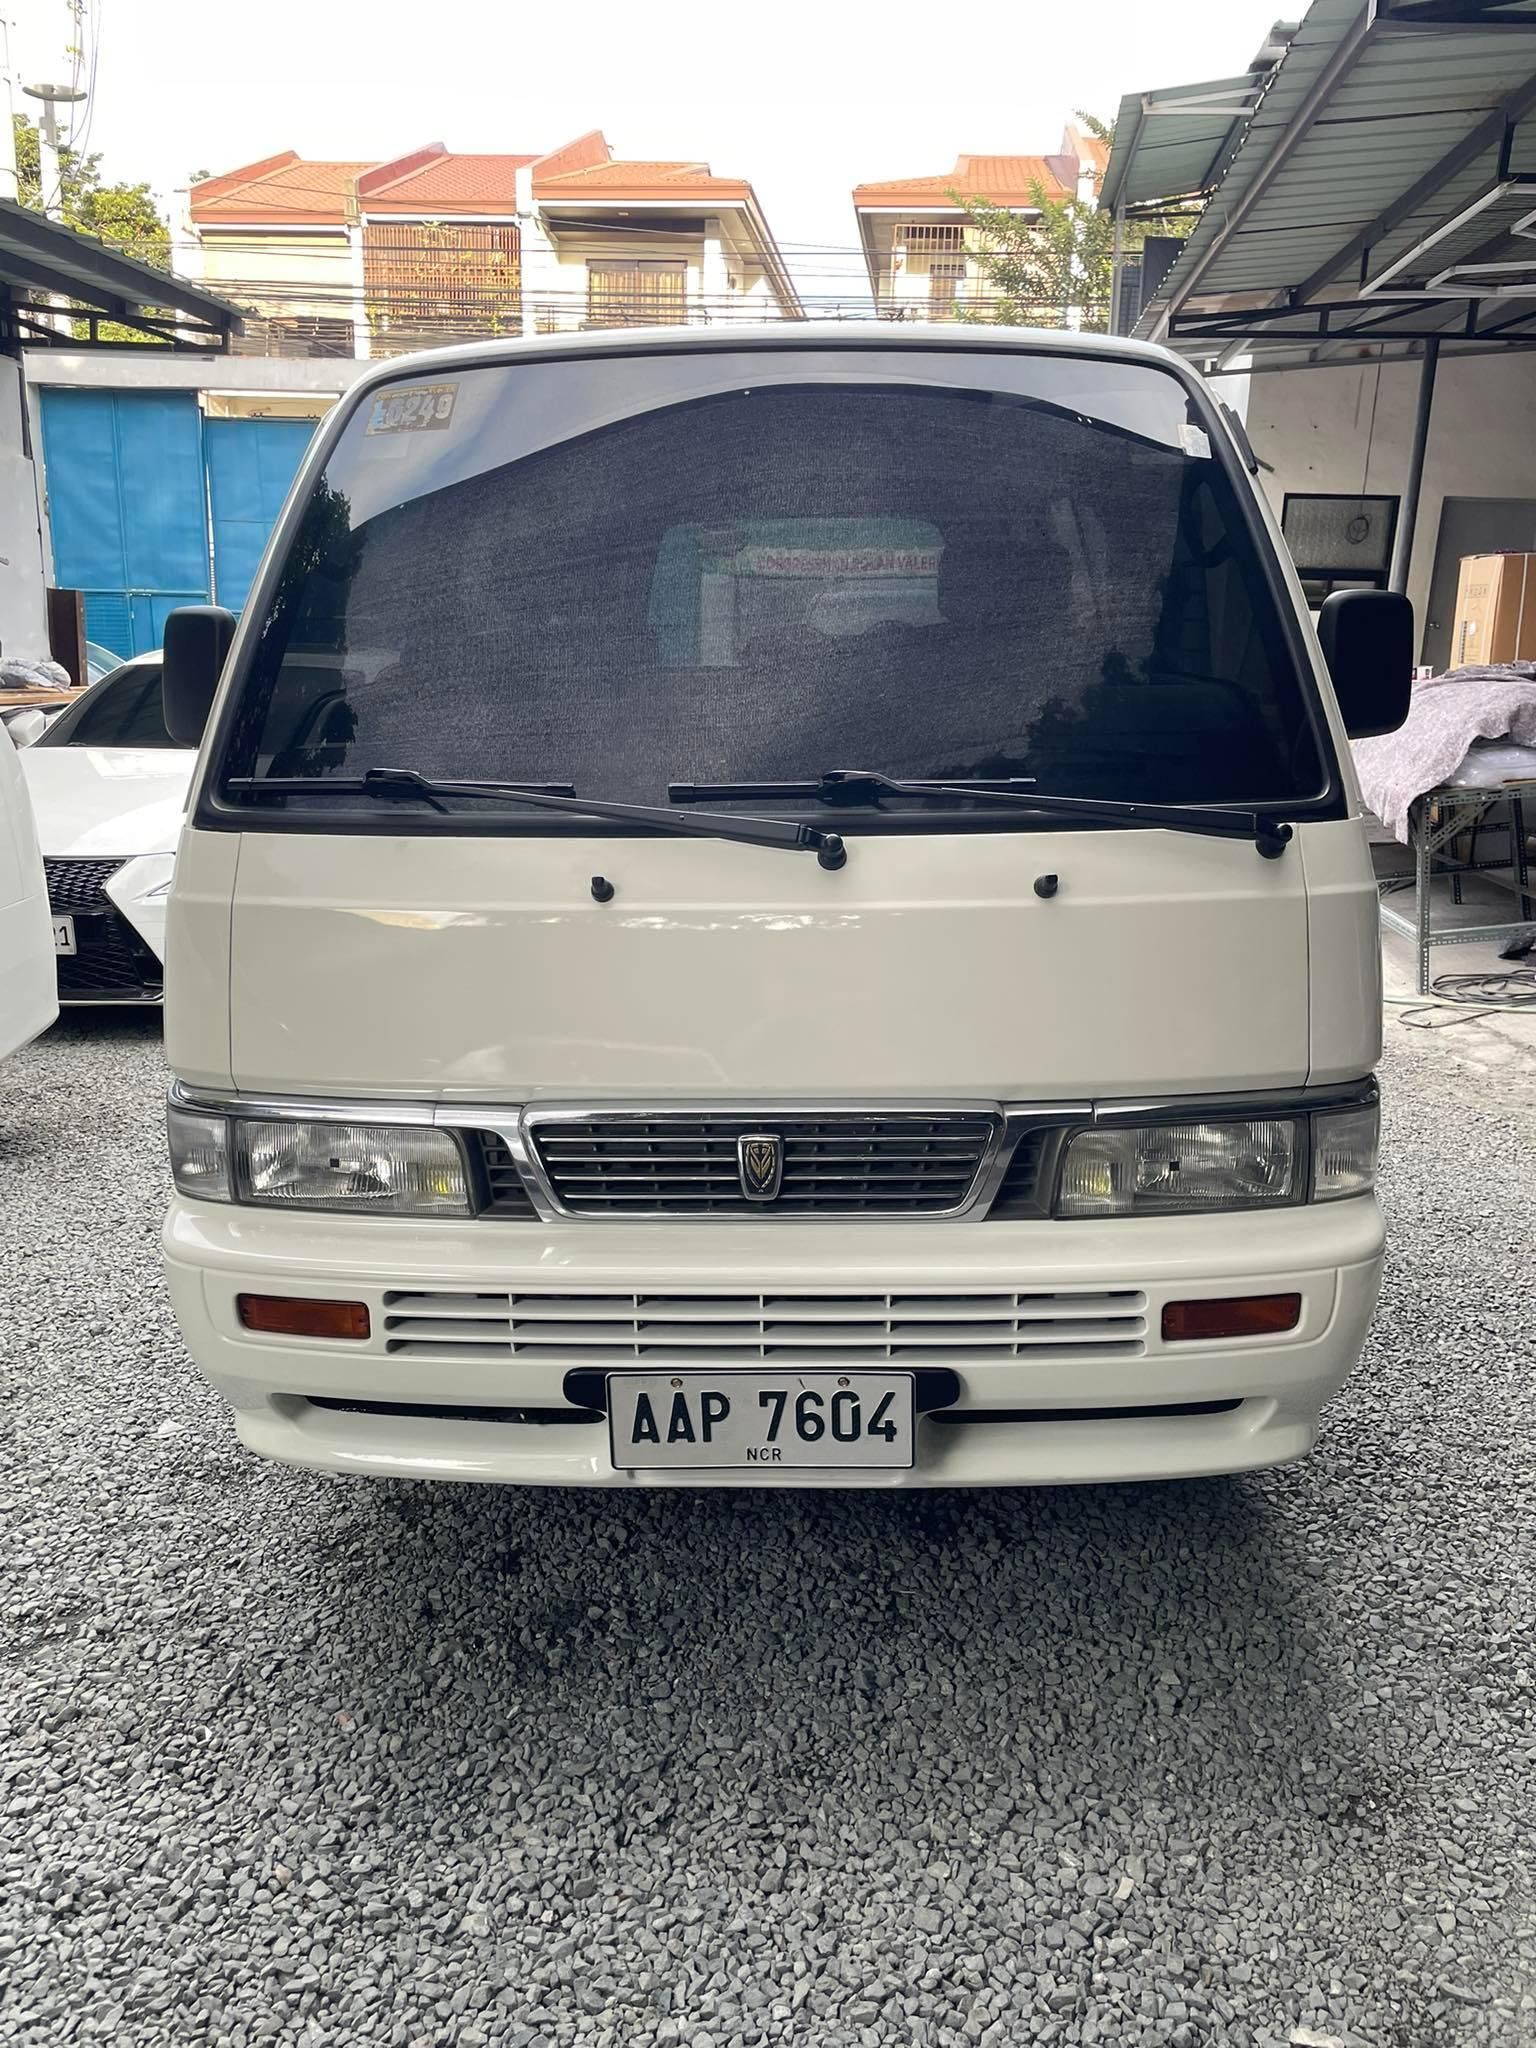plate: (610, 1373, 920, 1473)
